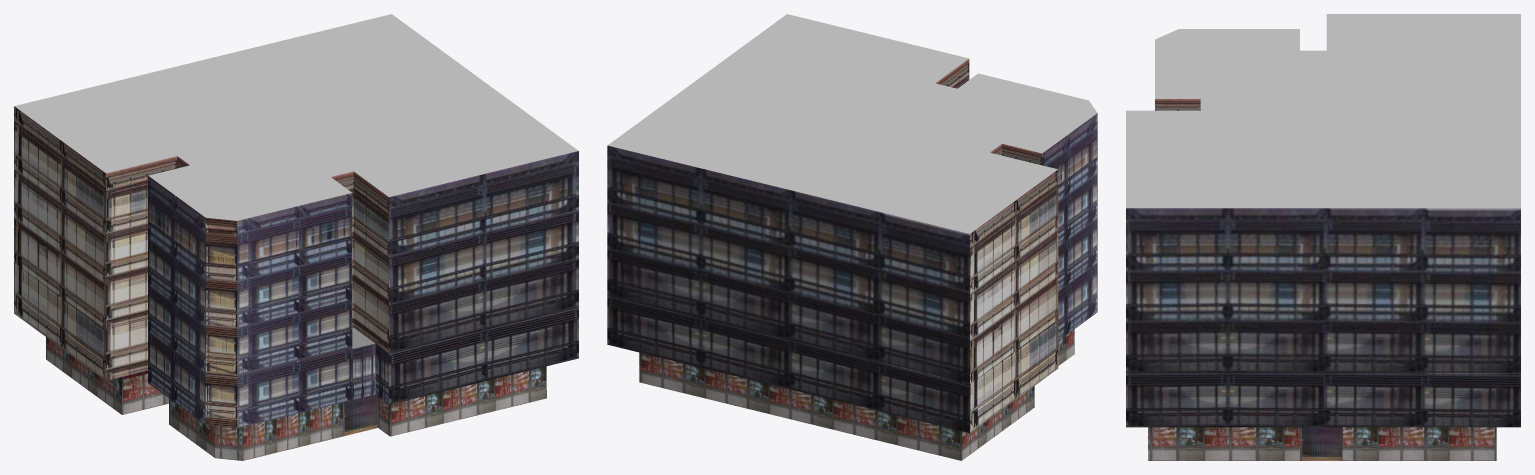
File: Hierro.FBX
The picture shows the model from 3 angles, left to right: view 1: azimuth 30°, elevation 25°; view 2: azimuth 150°, elevation 25°; view 3: azimuth 270°, elevation 25°; orthographic projection. The views are drawn at different scales.
Parts seen in each view (by area): view 1: Hierro; view 2: Hierro; view 3: Hierro.
Part boxes in pixels (x1,y1,x2,y2): Hierro: (14, 14, 578, 460); Hierro: (607, 14, 1097, 460); Hierro: (1126, 14, 1520, 460).
Bounding box in the file's own units: 167 × 106 × 143.
